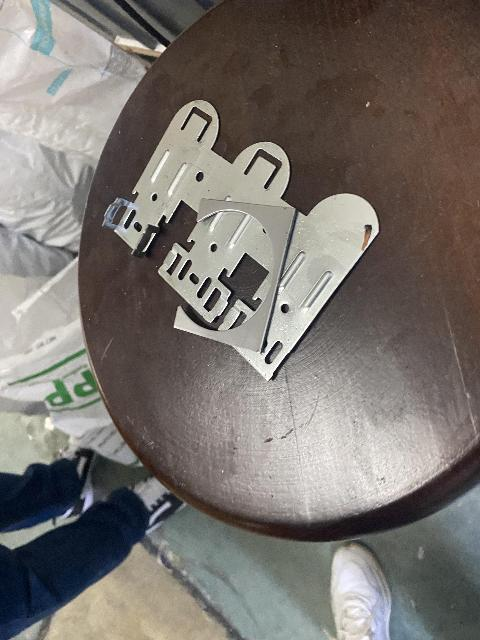Metal: (99, 100, 380, 384)
